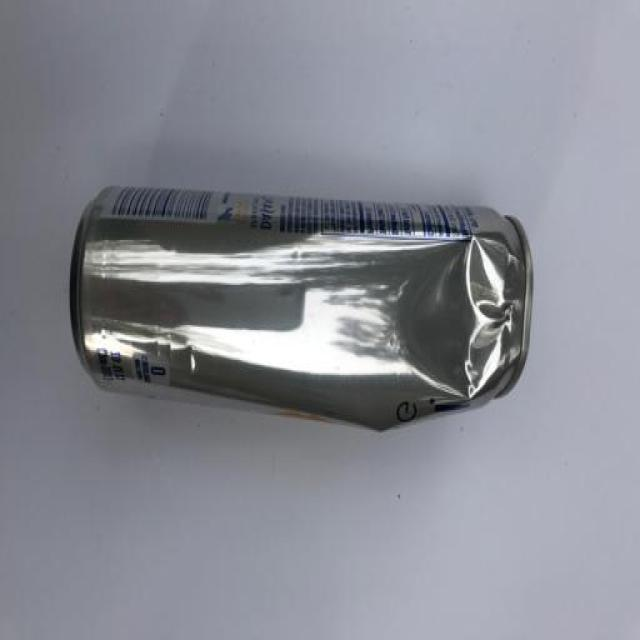Metal: (68, 187, 535, 435)
